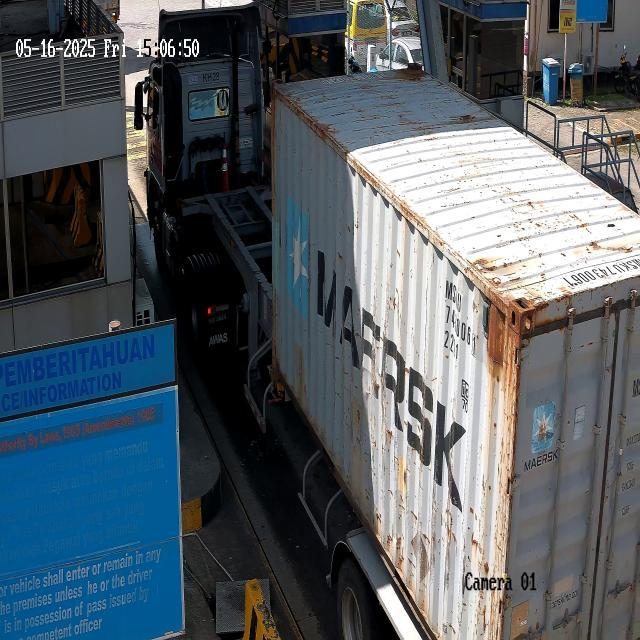ISO: (441, 327, 463, 367)
container_number: (440, 281, 486, 362)
